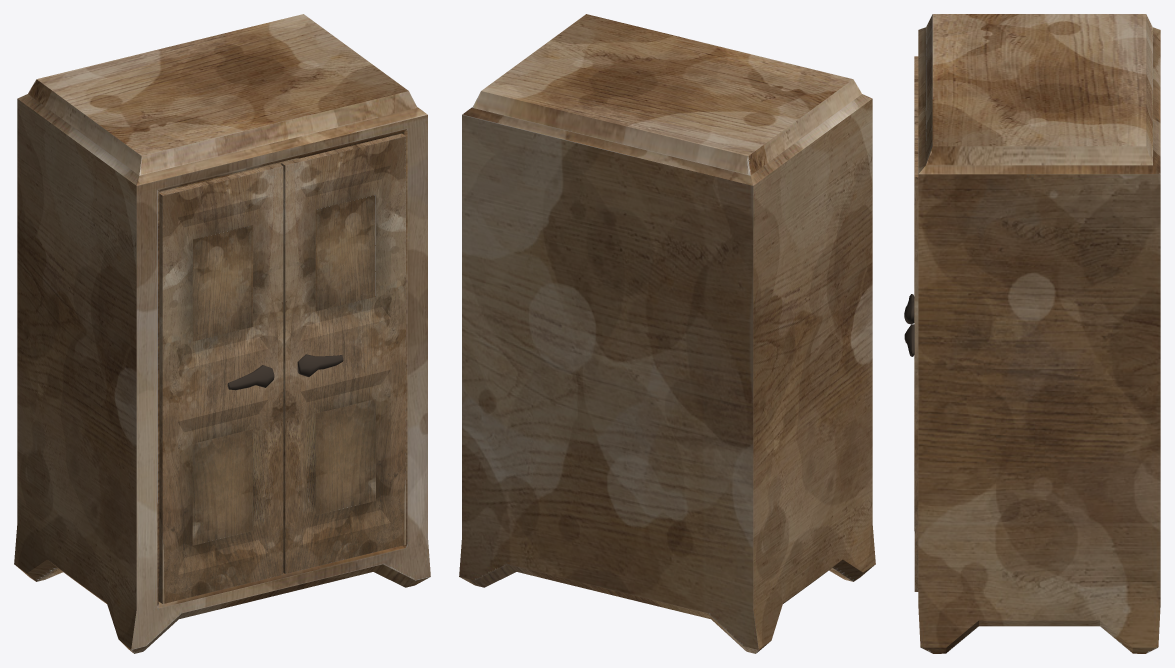
Rendered from garde_robe_ferme.fbx.
3 views of the same model, side by side, from view 1: azimuth 30°, elevation 25°; view 2: azimuth 150°, elevation 25°; view 3: azimuth 270°, elevation 25° (orthographic).
Visible parts, largest first — view 1: garde_robe, porte_g (×2), poigne (×2); view 2: garde_robe; view 3: garde_robe, porte_g (×2).
Boxes of the visible parts, box(x1,y1,x2,y2) form: garde_robe: box(14, 14, 430, 653); porte_g (×2): box(158, 133, 405, 603); poigne (×2): box(227, 354, 343, 390); garde_robe: box(459, 14, 875, 653); garde_robe: box(918, 14, 1160, 653); porte_g (×2): box(914, 56, 918, 591).
Bounding box in the file's own units: 6.98 × 11.04 × 5.09.
